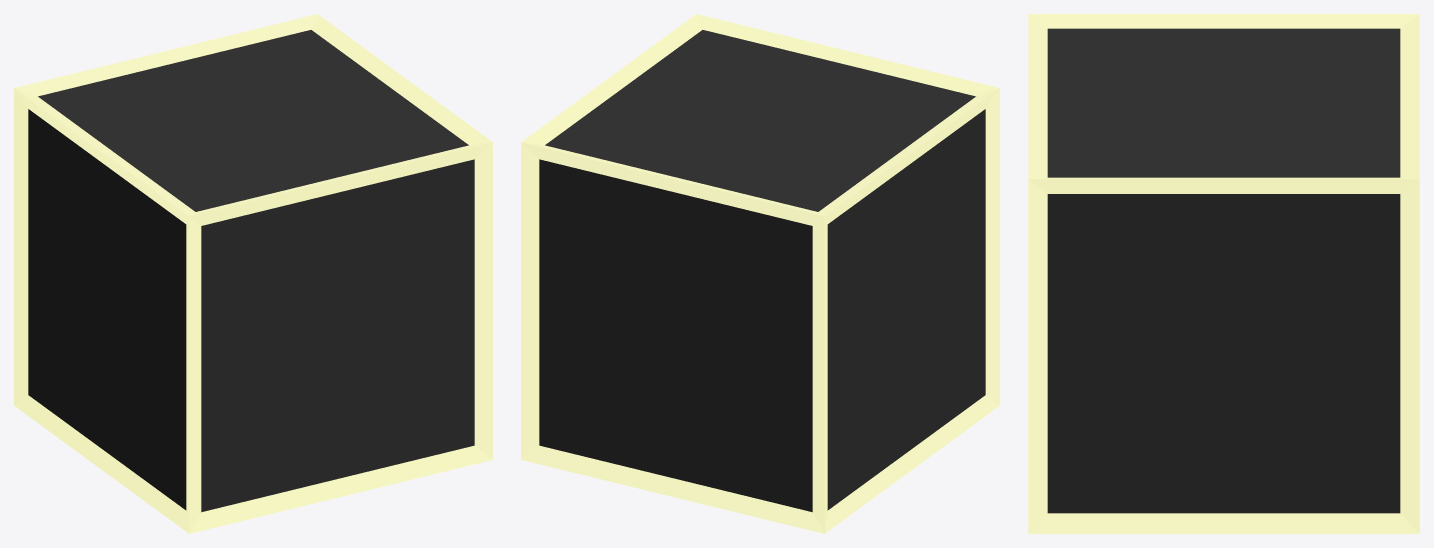
Rendered from Player.fbx.
3 renders of one model, left to right at view 1: azimuth 30°, elevation 25°; view 2: azimuth 150°, elevation 25°; view 3: azimuth 270°, elevation 25°, orthographic. The views are drawn at different scales.
Parts seen in each view (by area): view 1: Player; view 2: Player; view 3: Player.
Boxes of the visible parts, x1,y1,x2,y2 form: Player: (14,14,492,533); Player: (521,14,999,533); Player: (1028,14,1419,533).
Bounding box in the file's own units: 46.31 × 46.31 × 46.31.
